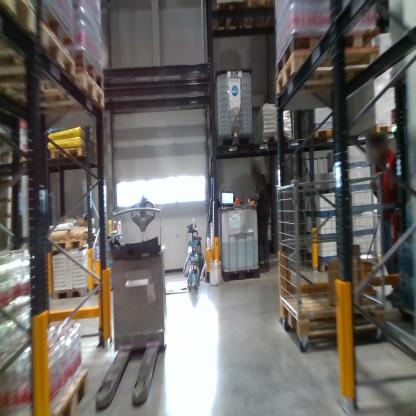pallet: (272, 43, 398, 98), (278, 290, 383, 348), (3, 18, 77, 98), (3, 70, 112, 117), (274, 34, 381, 71), (12, 364, 91, 413), (40, 6, 85, 57), (2, 3, 40, 48), (49, 143, 100, 175), (76, 49, 111, 95), (207, 1, 248, 36), (239, 2, 280, 35), (208, 132, 260, 156), (48, 232, 94, 255), (48, 281, 94, 303), (307, 124, 342, 149), (255, 126, 302, 142), (369, 122, 394, 139)
pallet_truck: (91, 182, 176, 407)
